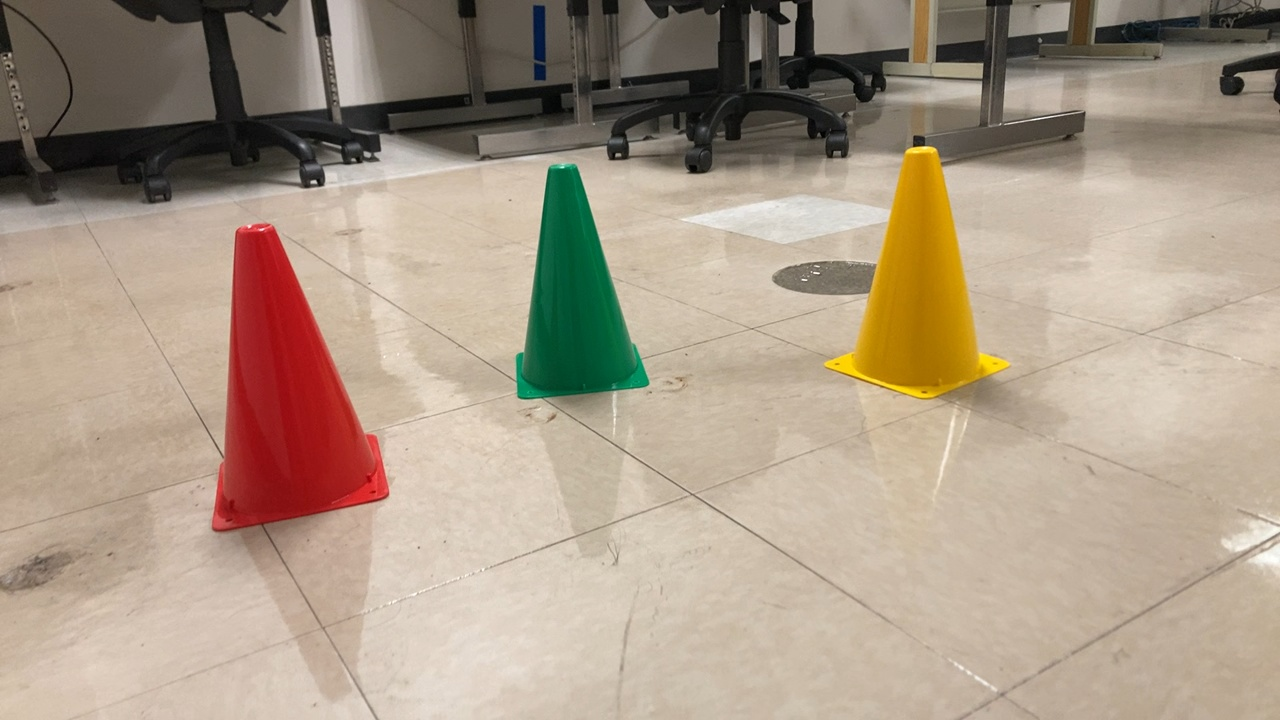green_cone: (499, 156, 655, 405)
red_cone: (191, 221, 395, 535)
yellow_cone: (813, 139, 1014, 407)
